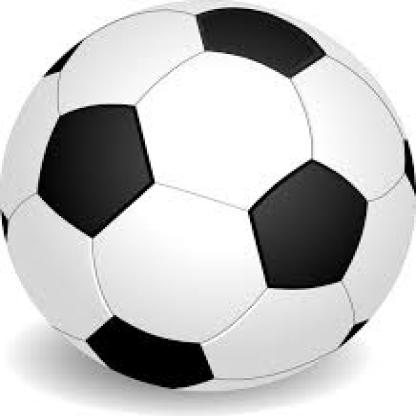ball: (1, 1, 416, 393)
